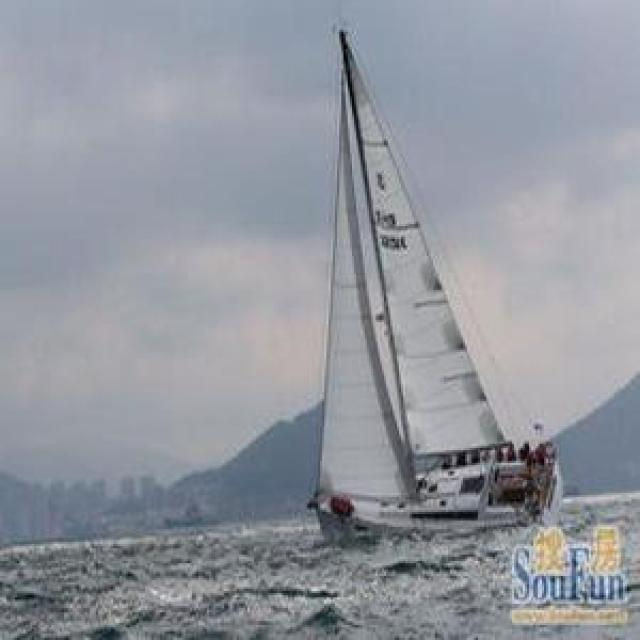sailboat: (296, 23, 597, 536)
